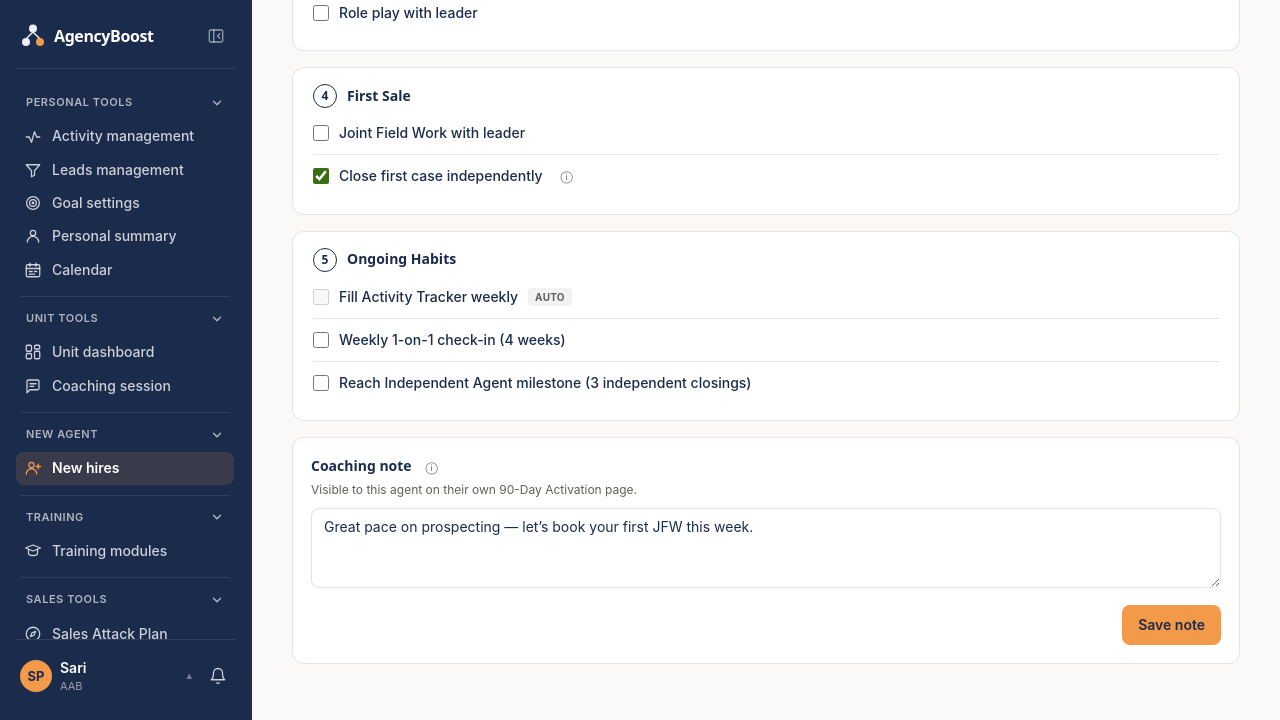
it: /new-hires/[membershipId], one hire as a leader reads it (P13-T5, P13-T6) › P13-T6 AC-6 a refused note says why and keeps what was typed
(page scrolled)
Type " More." into the text box at (766, 548), box [311, 508, 1221, 588]
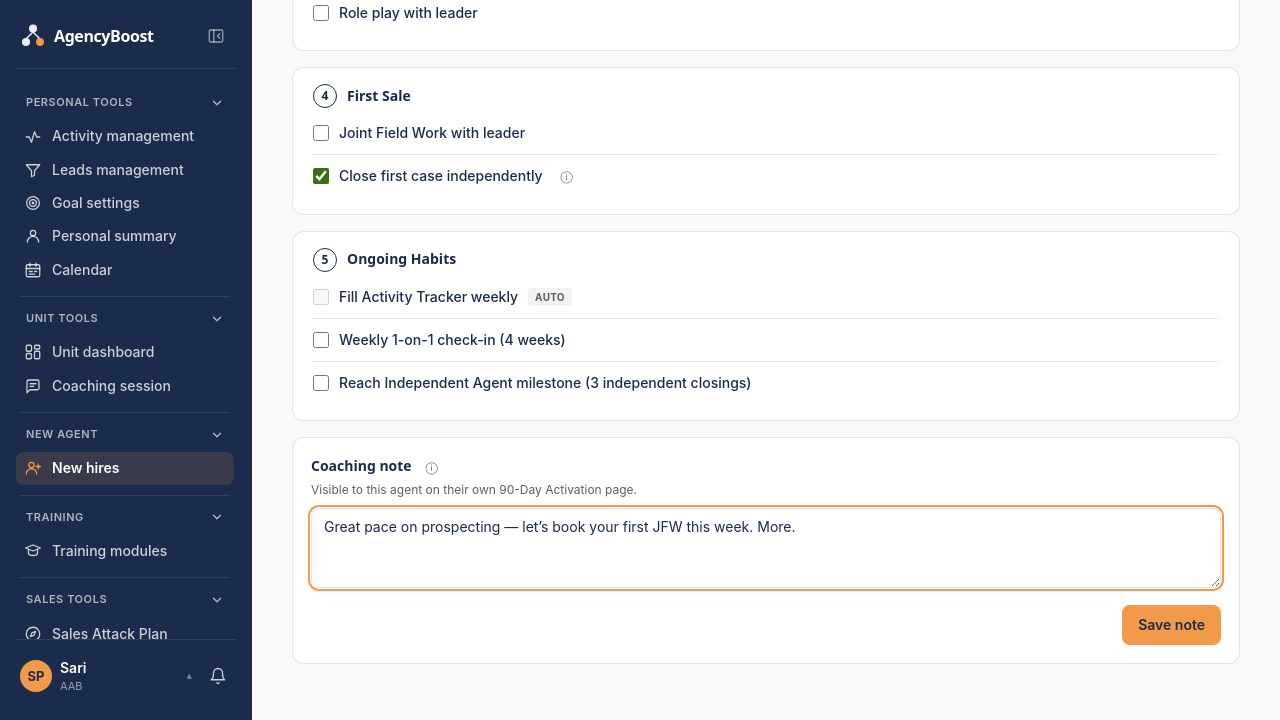
Click the button "Save note" at (1172, 625), box [1122, 605, 1221, 645]
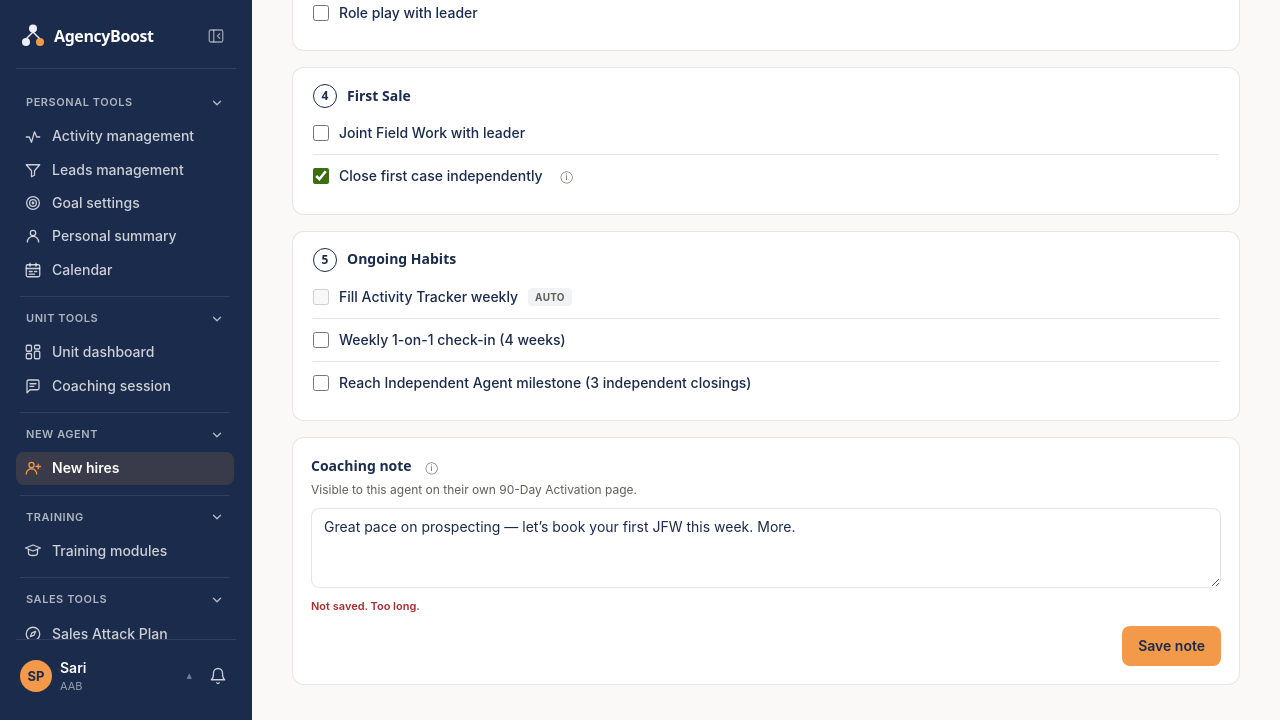
Expected: the text box holds "Great pace on prospecting — let’s book your first JFW this week. More.", [311, 508, 1221, 588]
Expected: the message shows "Too long.", [311, 599, 420, 613]
